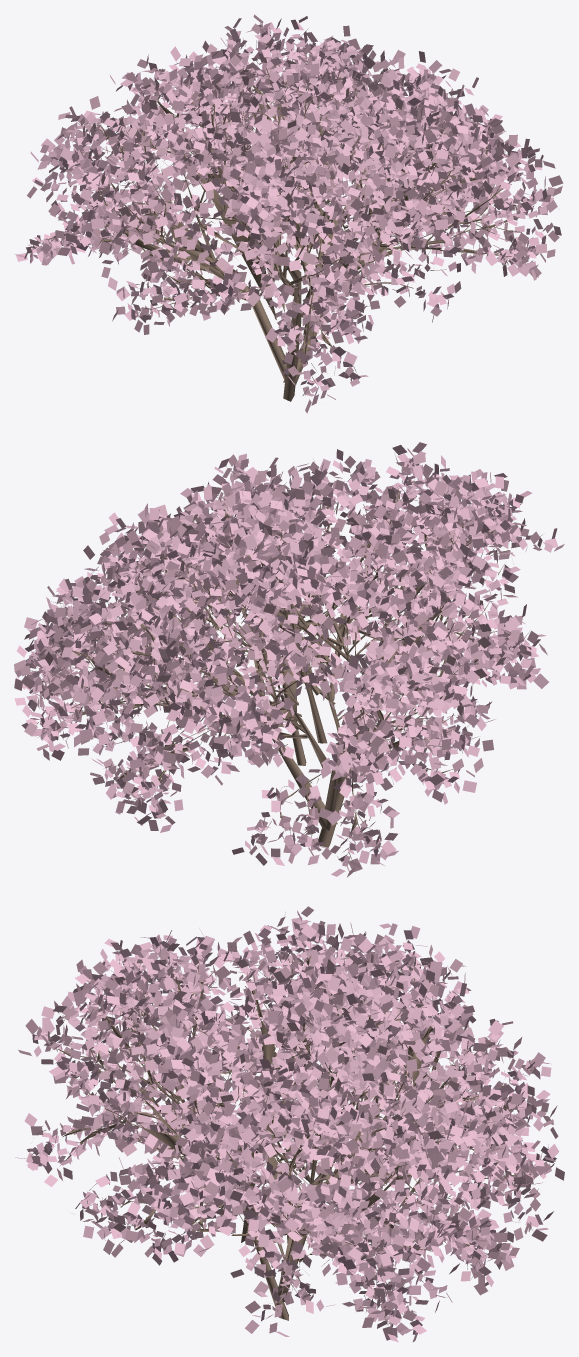
Rendered from tree_cherry.gltf.
3 views of the same model, one above another, from view 1: azimuth 30°, elevation 25°; view 2: azimuth 150°, elevation 25°; view 3: azimuth 270°, elevation 25° (orthographic). The views are drawn at different scales.
Parts seen in each view (by area): view 1: _Cherry_Leaves_; view 2: _Cherry_Leaves_; view 3: _Cherry_Leaves_.
Part boxes in pixels (box(x1,y1,x2,y2)): _Cherry_Leaves_: box(15, 14, 563, 413); _Cherry_Leaves_: box(14, 442, 564, 877); _Cherry_Leaves_: box(15, 906, 564, 1342).
Bounding box in the file's own units: 9.36 × 7 × 9.16.
